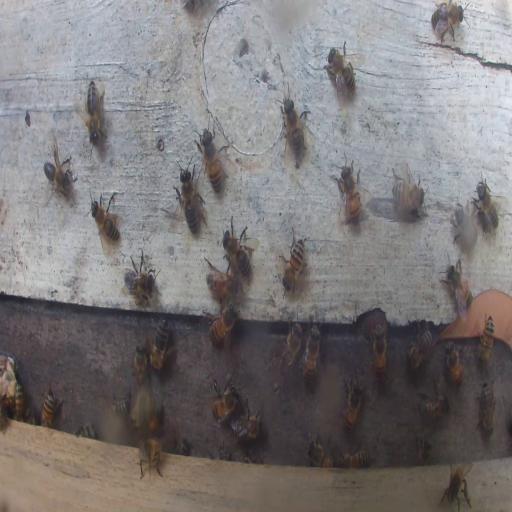nonpollenbee: (176, 160, 208, 234), (278, 87, 308, 161), (122, 250, 160, 304), (324, 44, 358, 104), (44, 139, 77, 200), (222, 223, 255, 281), (334, 158, 362, 224), (439, 261, 473, 315), (390, 165, 427, 214), (278, 230, 306, 294), (440, 460, 474, 512), (197, 125, 223, 193), (88, 196, 120, 246), (472, 175, 500, 231), (82, 80, 105, 144), (430, 2, 466, 42), (208, 302, 238, 346), (149, 318, 172, 373), (343, 376, 365, 432), (417, 385, 450, 421), (205, 262, 238, 297), (301, 322, 320, 382), (281, 321, 303, 372), (138, 437, 164, 480), (453, 208, 479, 250), (407, 327, 432, 370), (212, 382, 238, 422), (232, 408, 262, 442), (478, 381, 496, 436), (444, 344, 463, 386), (133, 340, 148, 387), (308, 440, 333, 468), (112, 385, 132, 420), (478, 316, 493, 362), (339, 446, 370, 468), (373, 325, 385, 379), (42, 388, 58, 428), (12, 380, 25, 420), (416, 434, 432, 463), (76, 422, 98, 438)
pollenbee: (146, 388, 161, 436)
